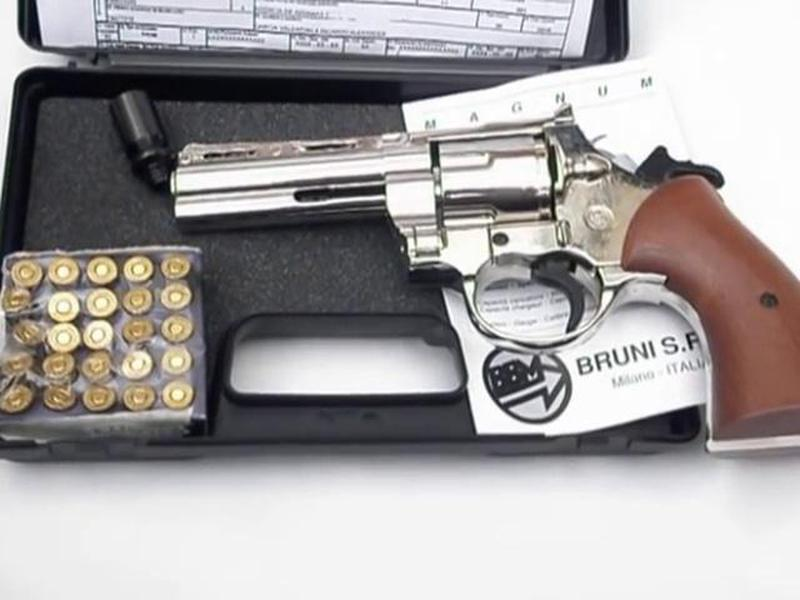Revolver: (166, 101, 800, 398)
